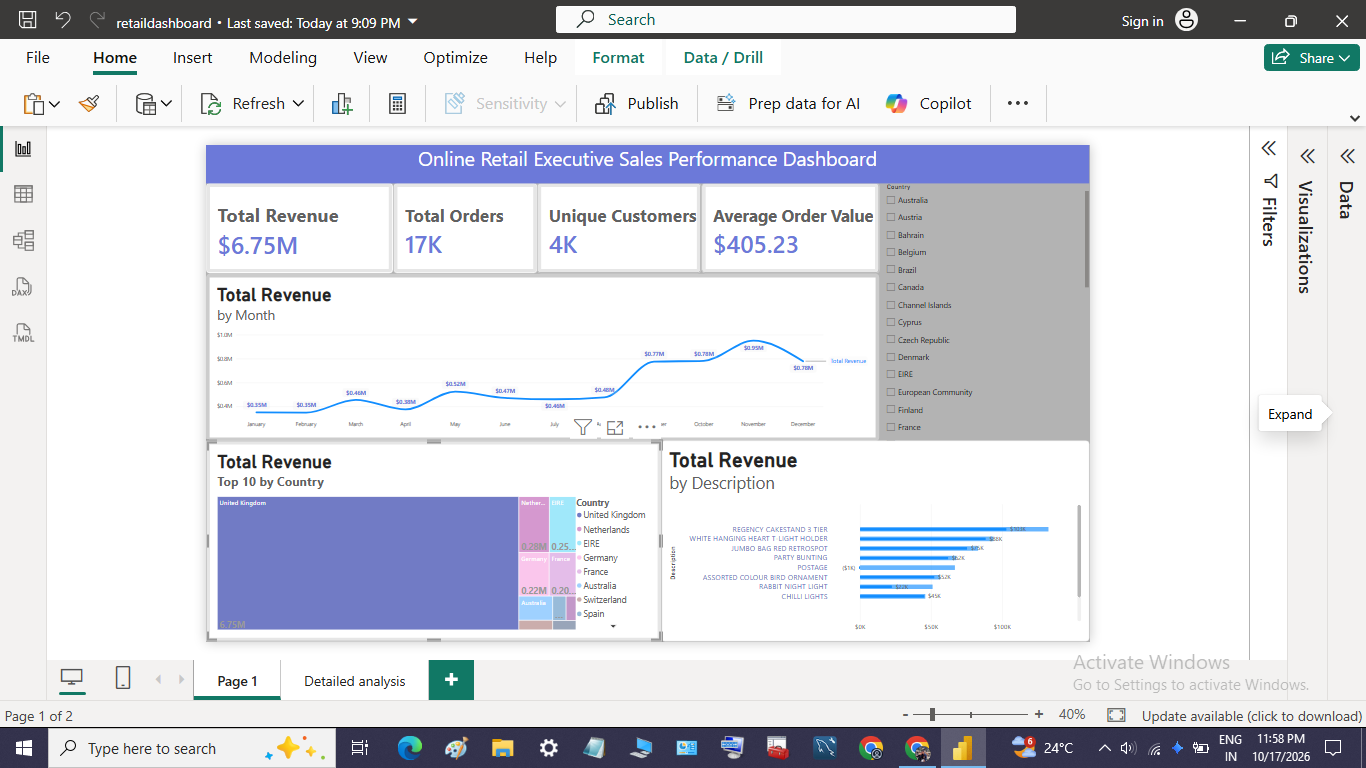

What the dashboard file says about the page in this screenshot:
{"tool":"powerbi","page":{"name":"Page 1","canvas":[1920,1080],"ordinal":0},"visuals":[{"type":"cardVisual","fields":{"Data":["in.Total Revenue"]},"box":[0,83.3,406.7,196.7],"z":0},{"type":"cardVisual","fields":{"Data":["in.Total Orders"]},"box":[406.7,83.3,313.3,196.7],"z":1000},{"type":"cardVisual","fields":{"Data":["in.Average Order Value"]},"box":[1076.7,83.3,386.7,196.7],"z":2000},{"type":"cardVisual","fields":{"Data":["in.Unique Customers"]},"box":[720,83.3,356.7,196.7],"z":3000},{"type":"lineChart","fields":{"Category":["in.Invoice Date.Variation.Date Hierarchy.Month"],"Y":["in.Total Revenue"]},"box":[0,280,1463.3,363.3],"z":4000},{"type":"clusteredBarChart","fields":{"Category":["in.Description"],"Y":["in.Total Revenue"]},"box":[990,643.3,930,436.7],"z":5000},{"type":"slicer","fields":{"Values":["in.Country"]},"box":[1473.3,83.3,446.7,560],"z":6000},{"type":"textbox","box":[0,0,1920,83.3],"z":7000},{"type":"treemap","title":" Total Revenue","fields":{"Group":["in.Country"],"Values":["in.Clean Total Revenue"]},"box":[0,643,990,437],"z":8000}]}

Visuals, with their boxes on the page's 1920x1080 design canvas (x1, y1, x2, y2). These are canvas units, not pixel positions in the 1366x768 screenshot, which may show the page scaled, cropped or inside an application window:
cardVisual - in.Total Revenue: [0,83,407,280]
cardVisual - in.Total Orders: [407,83,720,280]
cardVisual - in.Average Order Value: [1077,83,1463,280]
cardVisual - in.Unique Customers: [720,83,1077,280]
lineChart - in.Invoice Date.Variation.Date Hierarchy.Month x in.Total Revenue: [0,280,1463,643]
clusteredBarChart - in.Description x in.Total Revenue: [990,643,1920,1080]
slicer - in.Country: [1473,83,1920,643]
textbox: [0,0,1920,83]
" Total Revenue" treemap: [0,643,990,1080]
